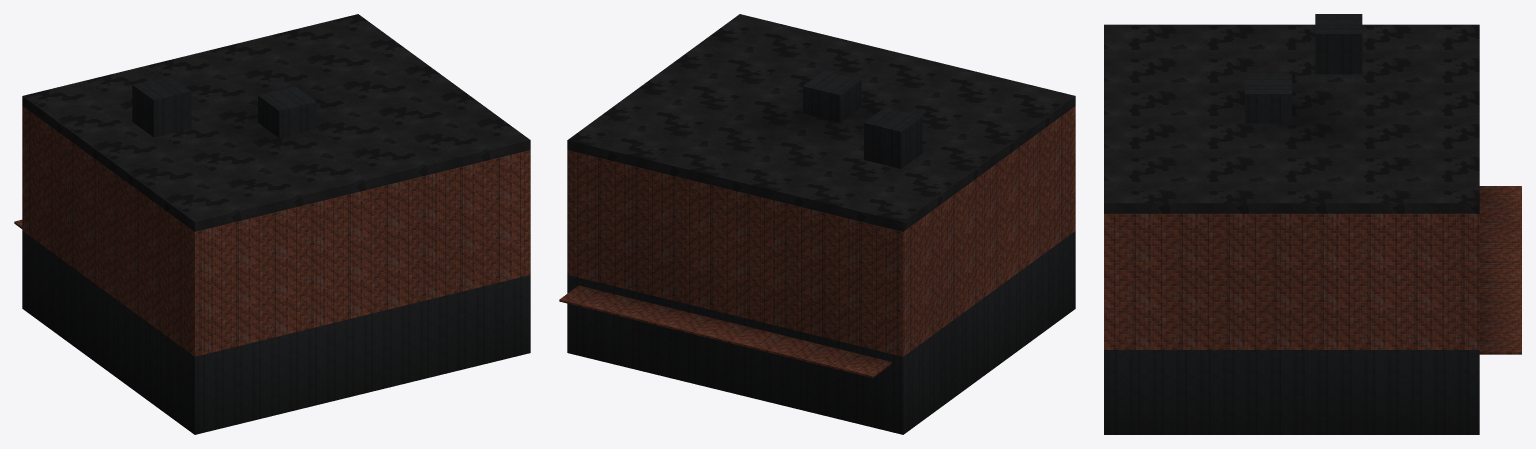
The model's file is market_habitat_lod1.glb.
3 views of the same model, side by side, from view 1: azimuth 30°, elevation 25°; view 2: azimuth 150°, elevation 25°; view 3: azimuth 270°, elevation 25° (orthographic). The views are drawn at different scales.
Parts seen in each view (by area): view 1: market_habitat_lod1; view 2: market_habitat_lod1; view 3: market_habitat_lod1.
Boxes of the visible parts, left/top/right/bottom form: market_habitat_lod1: left=14, top=14, right=530, bottom=434; market_habitat_lod1: left=559, top=14, right=1075, bottom=434; market_habitat_lod1: left=1104, top=14, right=1521, bottom=434.
Size of the model in its own units: 18 by 12.8 by 17.8.
